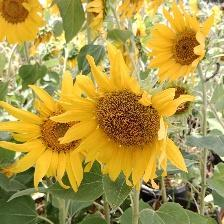sunflower: (52, 40, 199, 189)
